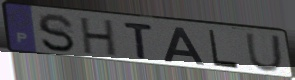A: (162, 26, 207, 67)
H: (79, 17, 119, 59)
L: (207, 28, 241, 71)
S: (36, 12, 78, 54)
T: (122, 21, 155, 61)
U: (243, 32, 285, 74)
